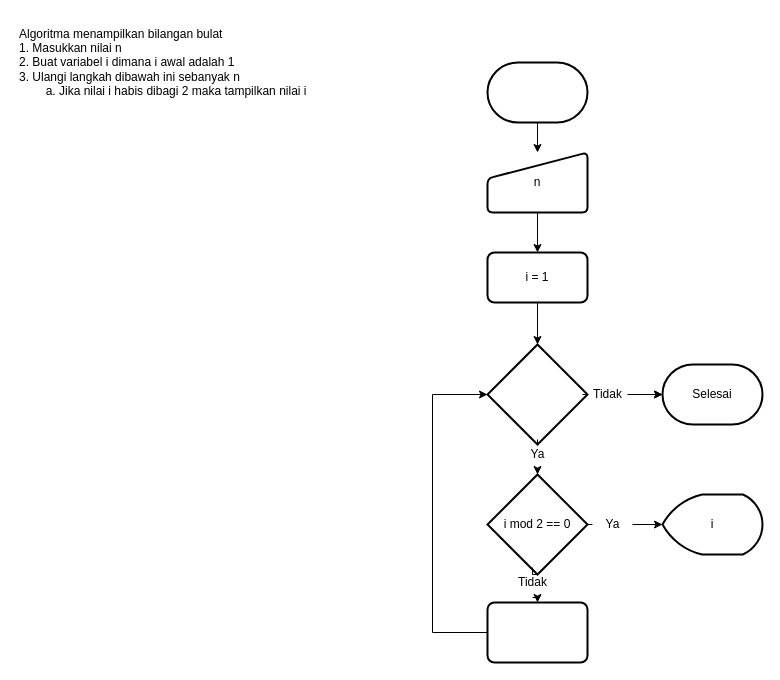
The diagram is 780 pixels wide and 680 high, and some of its shapes have lost their labels. Here are the shapes that lost their labels. From the top down, the centre of each, then its label:
At point 537,92: "mulai".
At point 537,394: "i <= 2*n".
At point 537,632: "i = i + 1".
